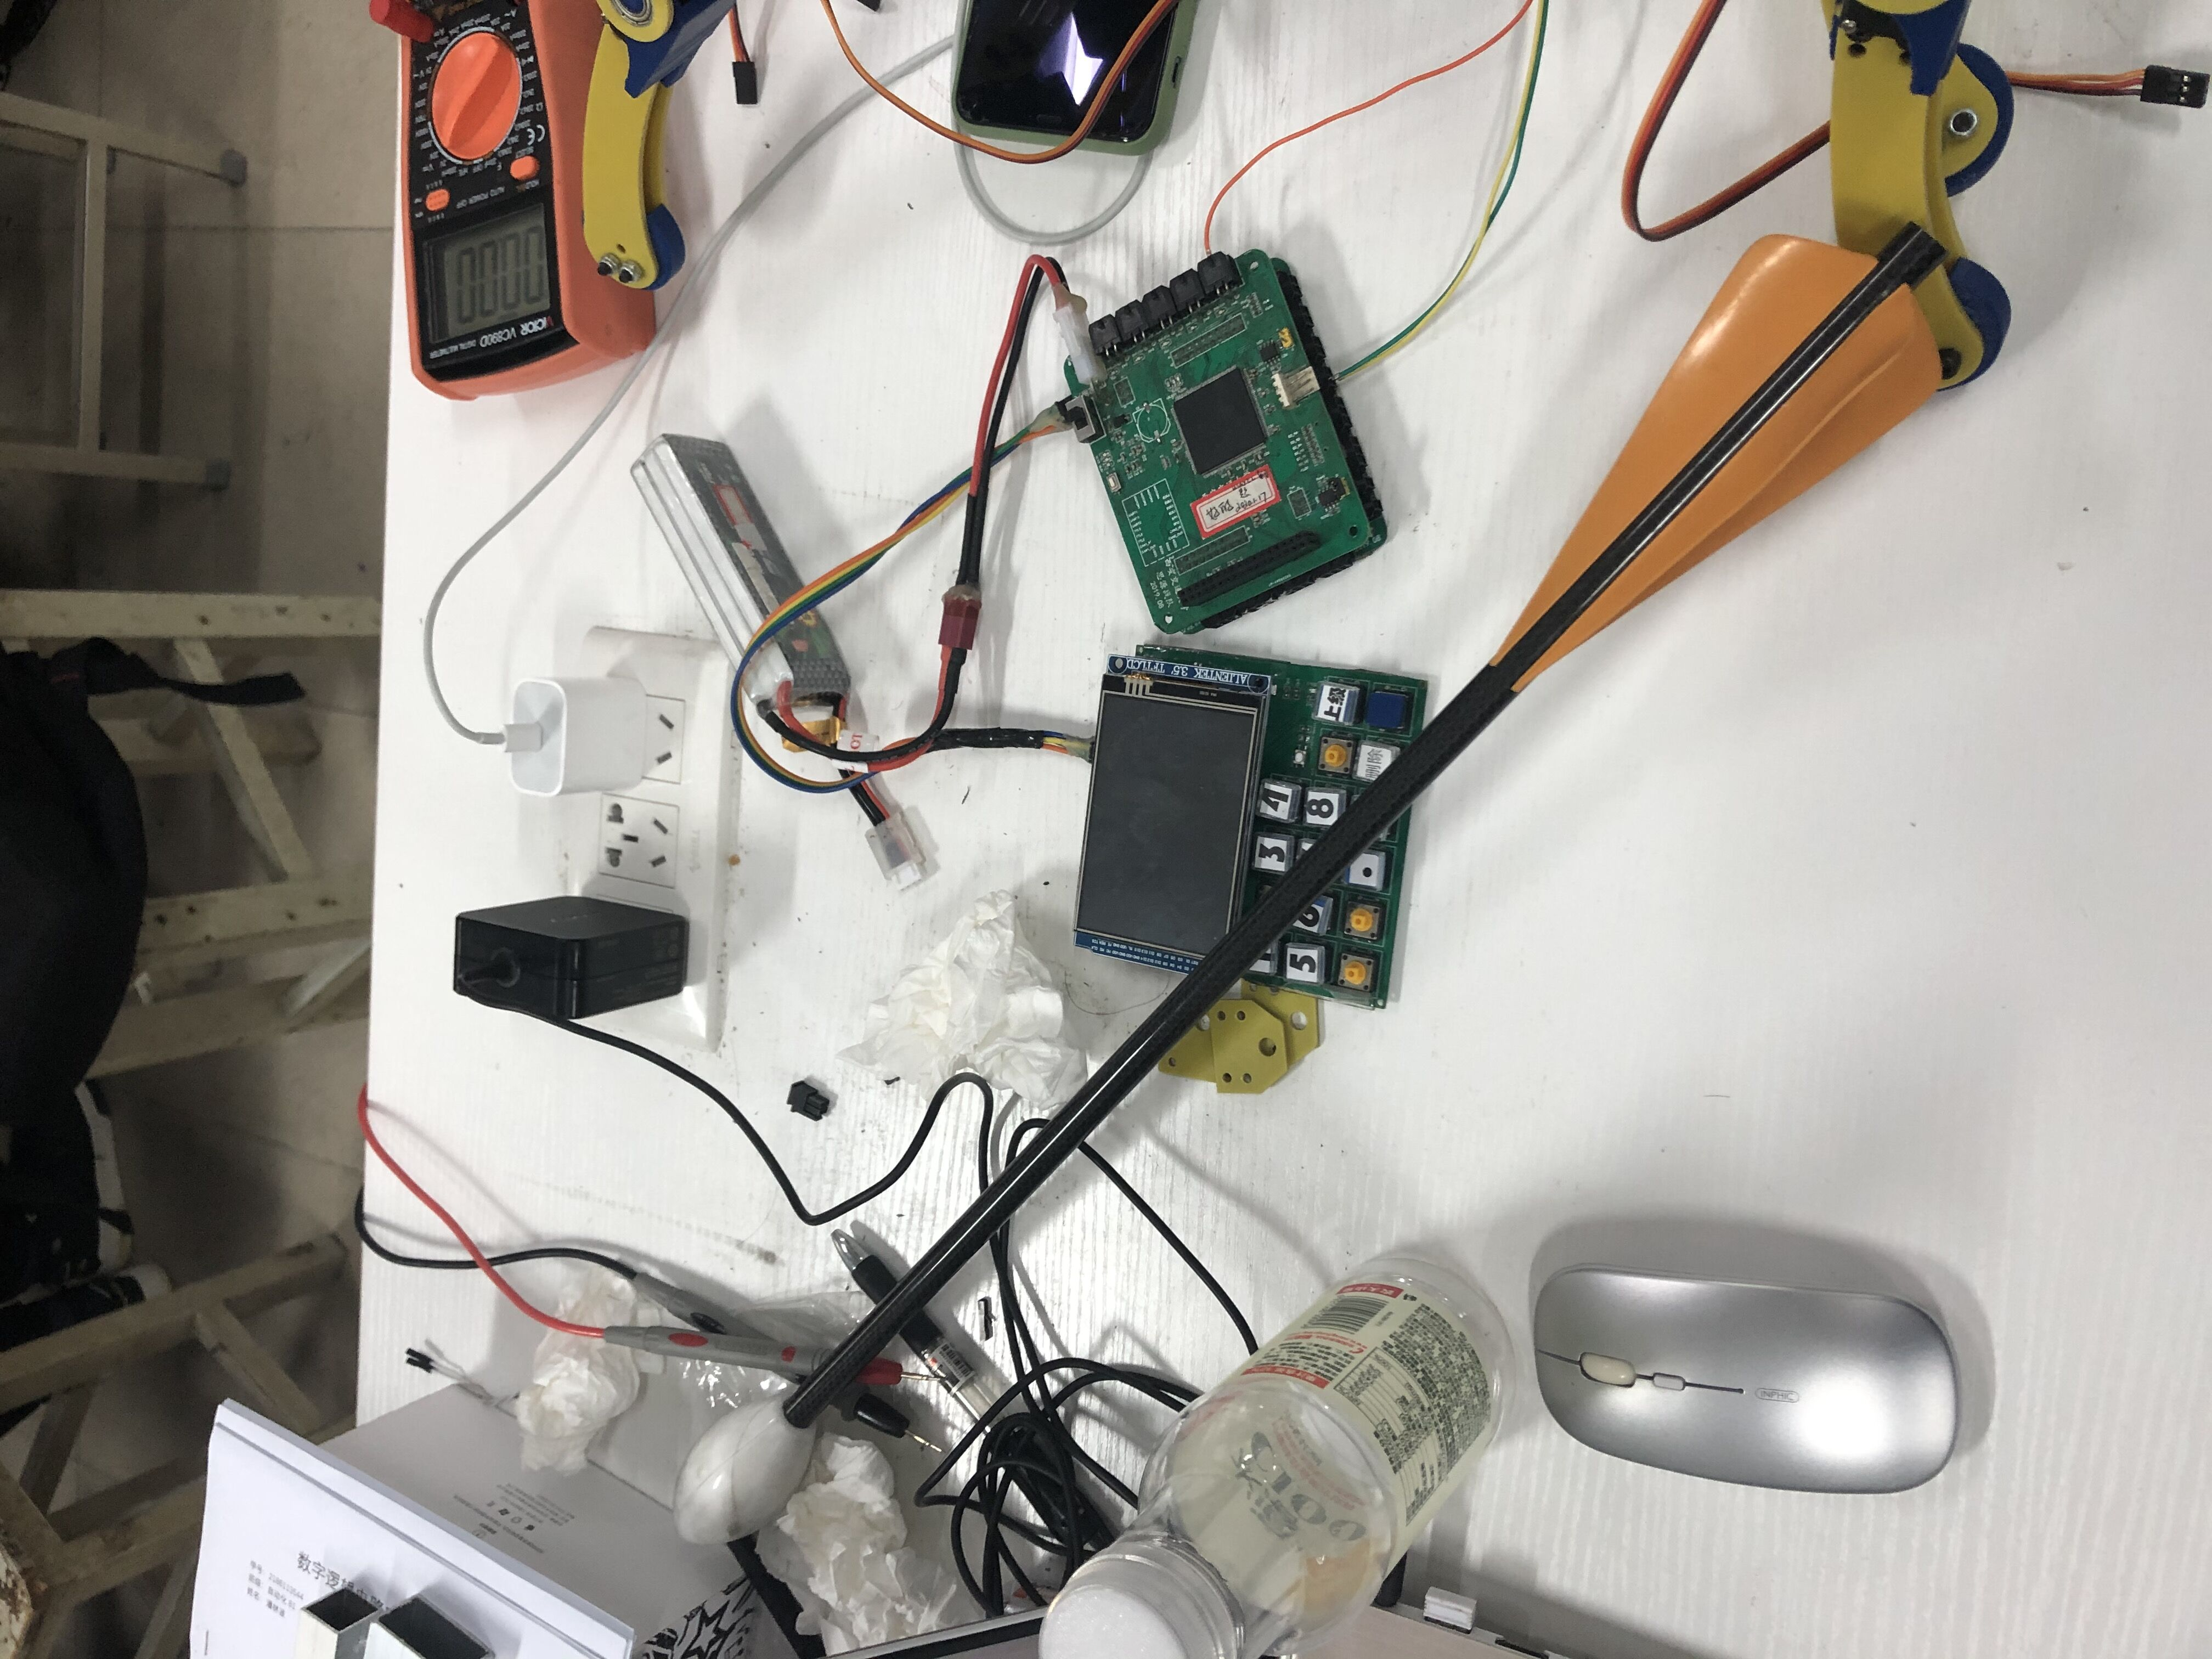arrow: (667, 213, 1956, 1551)
arrowFront: (674, 1396, 812, 1546)
